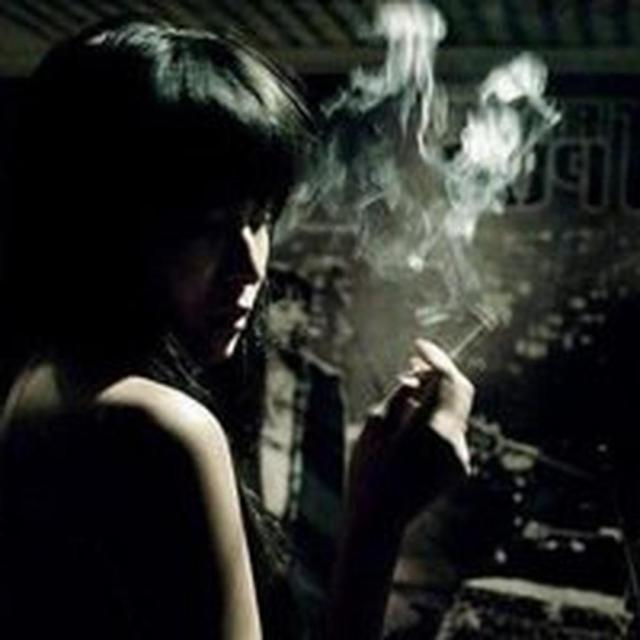smoking: (30, 17, 496, 431)
